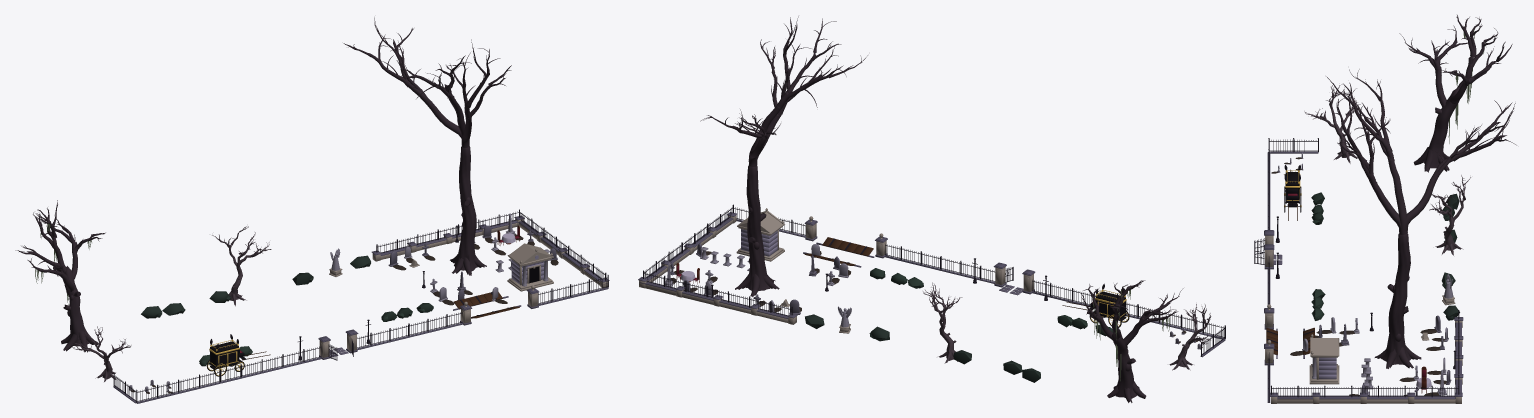
Rendered from grounds.glb.
3 views of the same model, side by side, from view 1: azimuth 30°, elevation 25°; view 2: azimuth 150°, elevation 25°; view 3: azimuth 270°, elevation 25° (orthographic). The views are drawn at different scales.
Parts seen in each view (by area): view 1: Grd_trees, Grd_graveyard, Grd_iron, Grd_yard, Grd_hearse; view 2: Grd_trees, Grd_graveyard, Grd_yard, Grd_iron, Grd_hearse; view 3: Grd_trees, Grd_graveyard, Grd_yard, Grd_iron, Grd_hearse.
Boxes of the visible parts, left/top/right/bottom form: Grd_trees: left=15, top=17, right=511, bottom=381; Grd_graveyard: left=371, top=213, right=609, bottom=318; Grd_iron: left=113, top=209, right=608, bottom=402; Grd_yard: left=113, top=248, right=608, bottom=403; Grd_hearse: left=206, top=334, right=270, bottom=376; Grd_trees: left=700, top=16, right=1211, bottom=402; Grd_graveyard: left=638, top=208, right=874, bottom=324; Grd_yard: left=736, top=216, right=1225, bottom=382; Grd_iron: left=643, top=204, right=1225, bottom=356; Grd_hearse: left=1062, top=283, right=1129, bottom=327; Grd_trees: left=1304, top=15, right=1516, bottom=368; Grd_graveyard: left=1266, top=315, right=1463, bottom=403; Grd_yard: left=1264, top=151, right=1459, bottom=402; Grd_iron: left=1254, top=138, right=1459, bottom=402; Grd_hearse: left=1284, top=164, right=1301, bottom=220.
Size of the model in its own units: 60.14 by 28.21 by 24.87.
